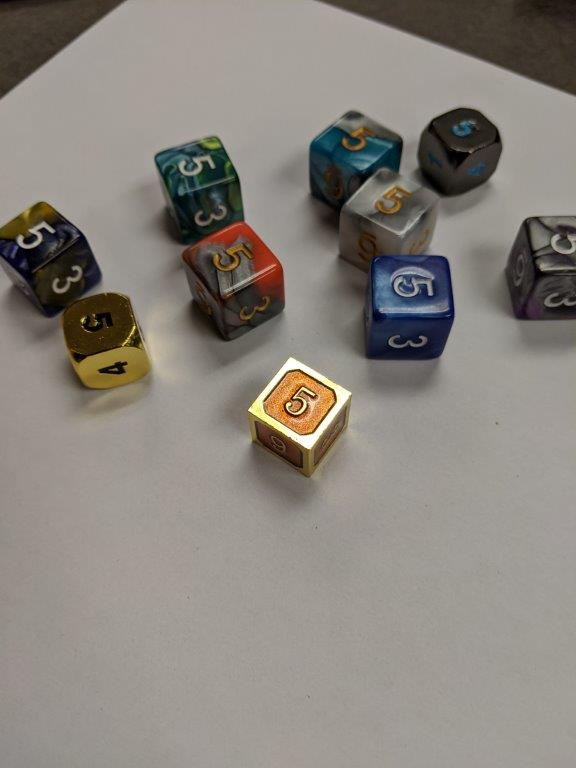d6-5: (242, 355, 348, 477), (180, 217, 283, 340), (1, 198, 99, 313), (363, 252, 458, 363), (153, 135, 245, 240), (337, 166, 441, 258), (502, 213, 576, 330), (64, 290, 151, 389), (413, 105, 502, 192), (306, 113, 403, 181)
